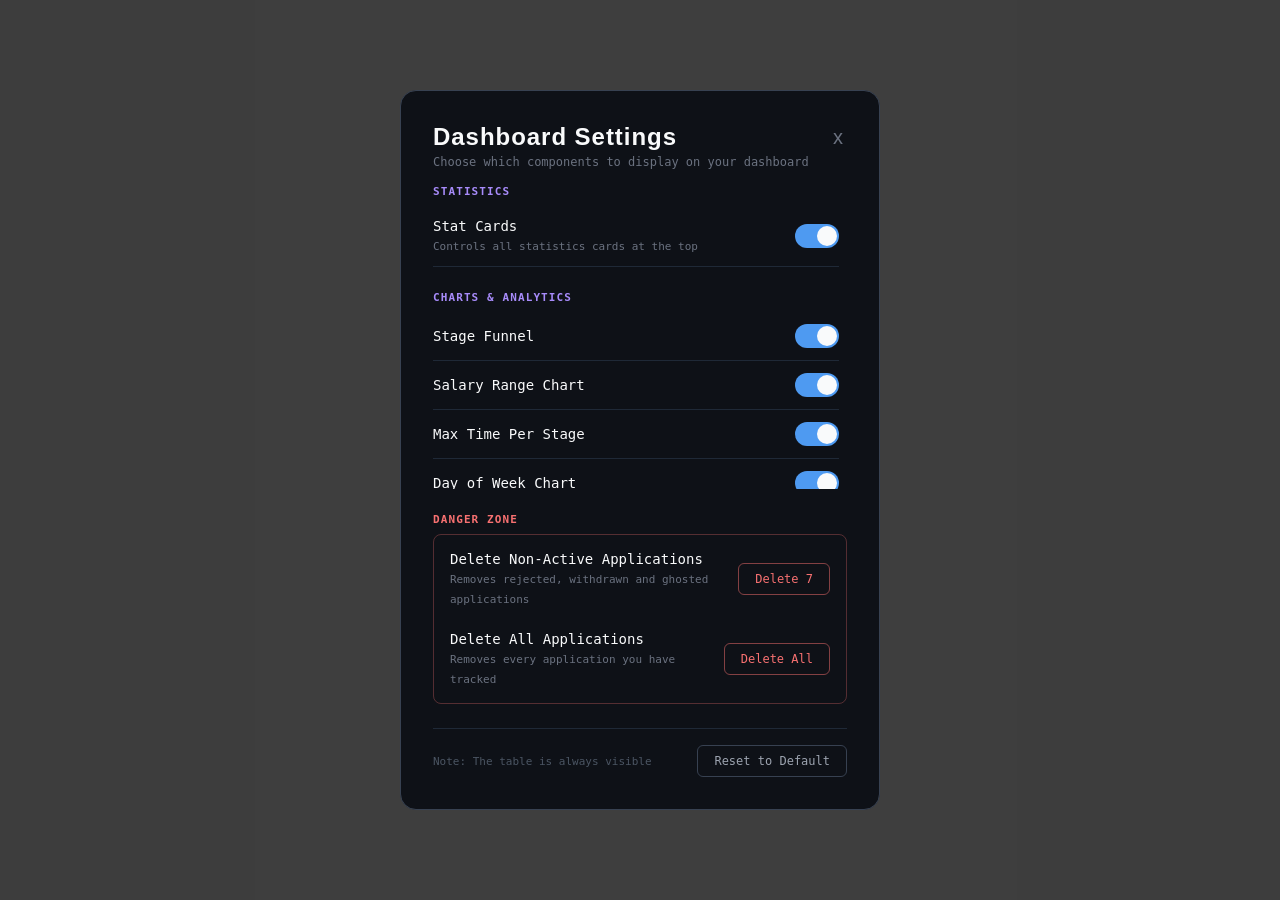
it: DashboardSettingsModal › danger zone › should open the non-active confirmation when its button is clicked
The image size is (1280, 900).
Click the button "Delete 7" at (784, 579), box left=738, top=563, right=830, bottom=595
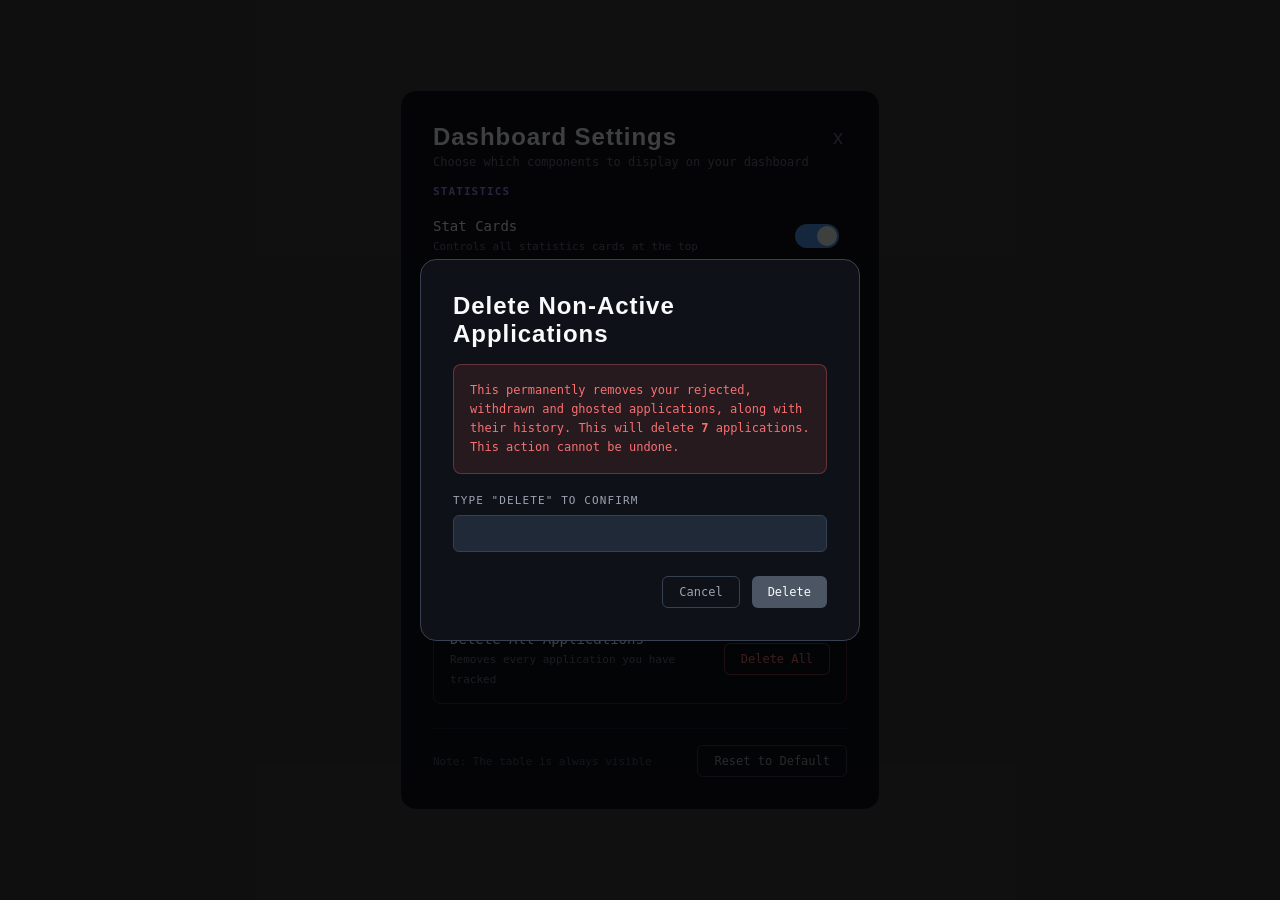
Expected: the dialog "Delete Non-Active Applications" is shown, left=420, top=259, right=860, bottom=641
